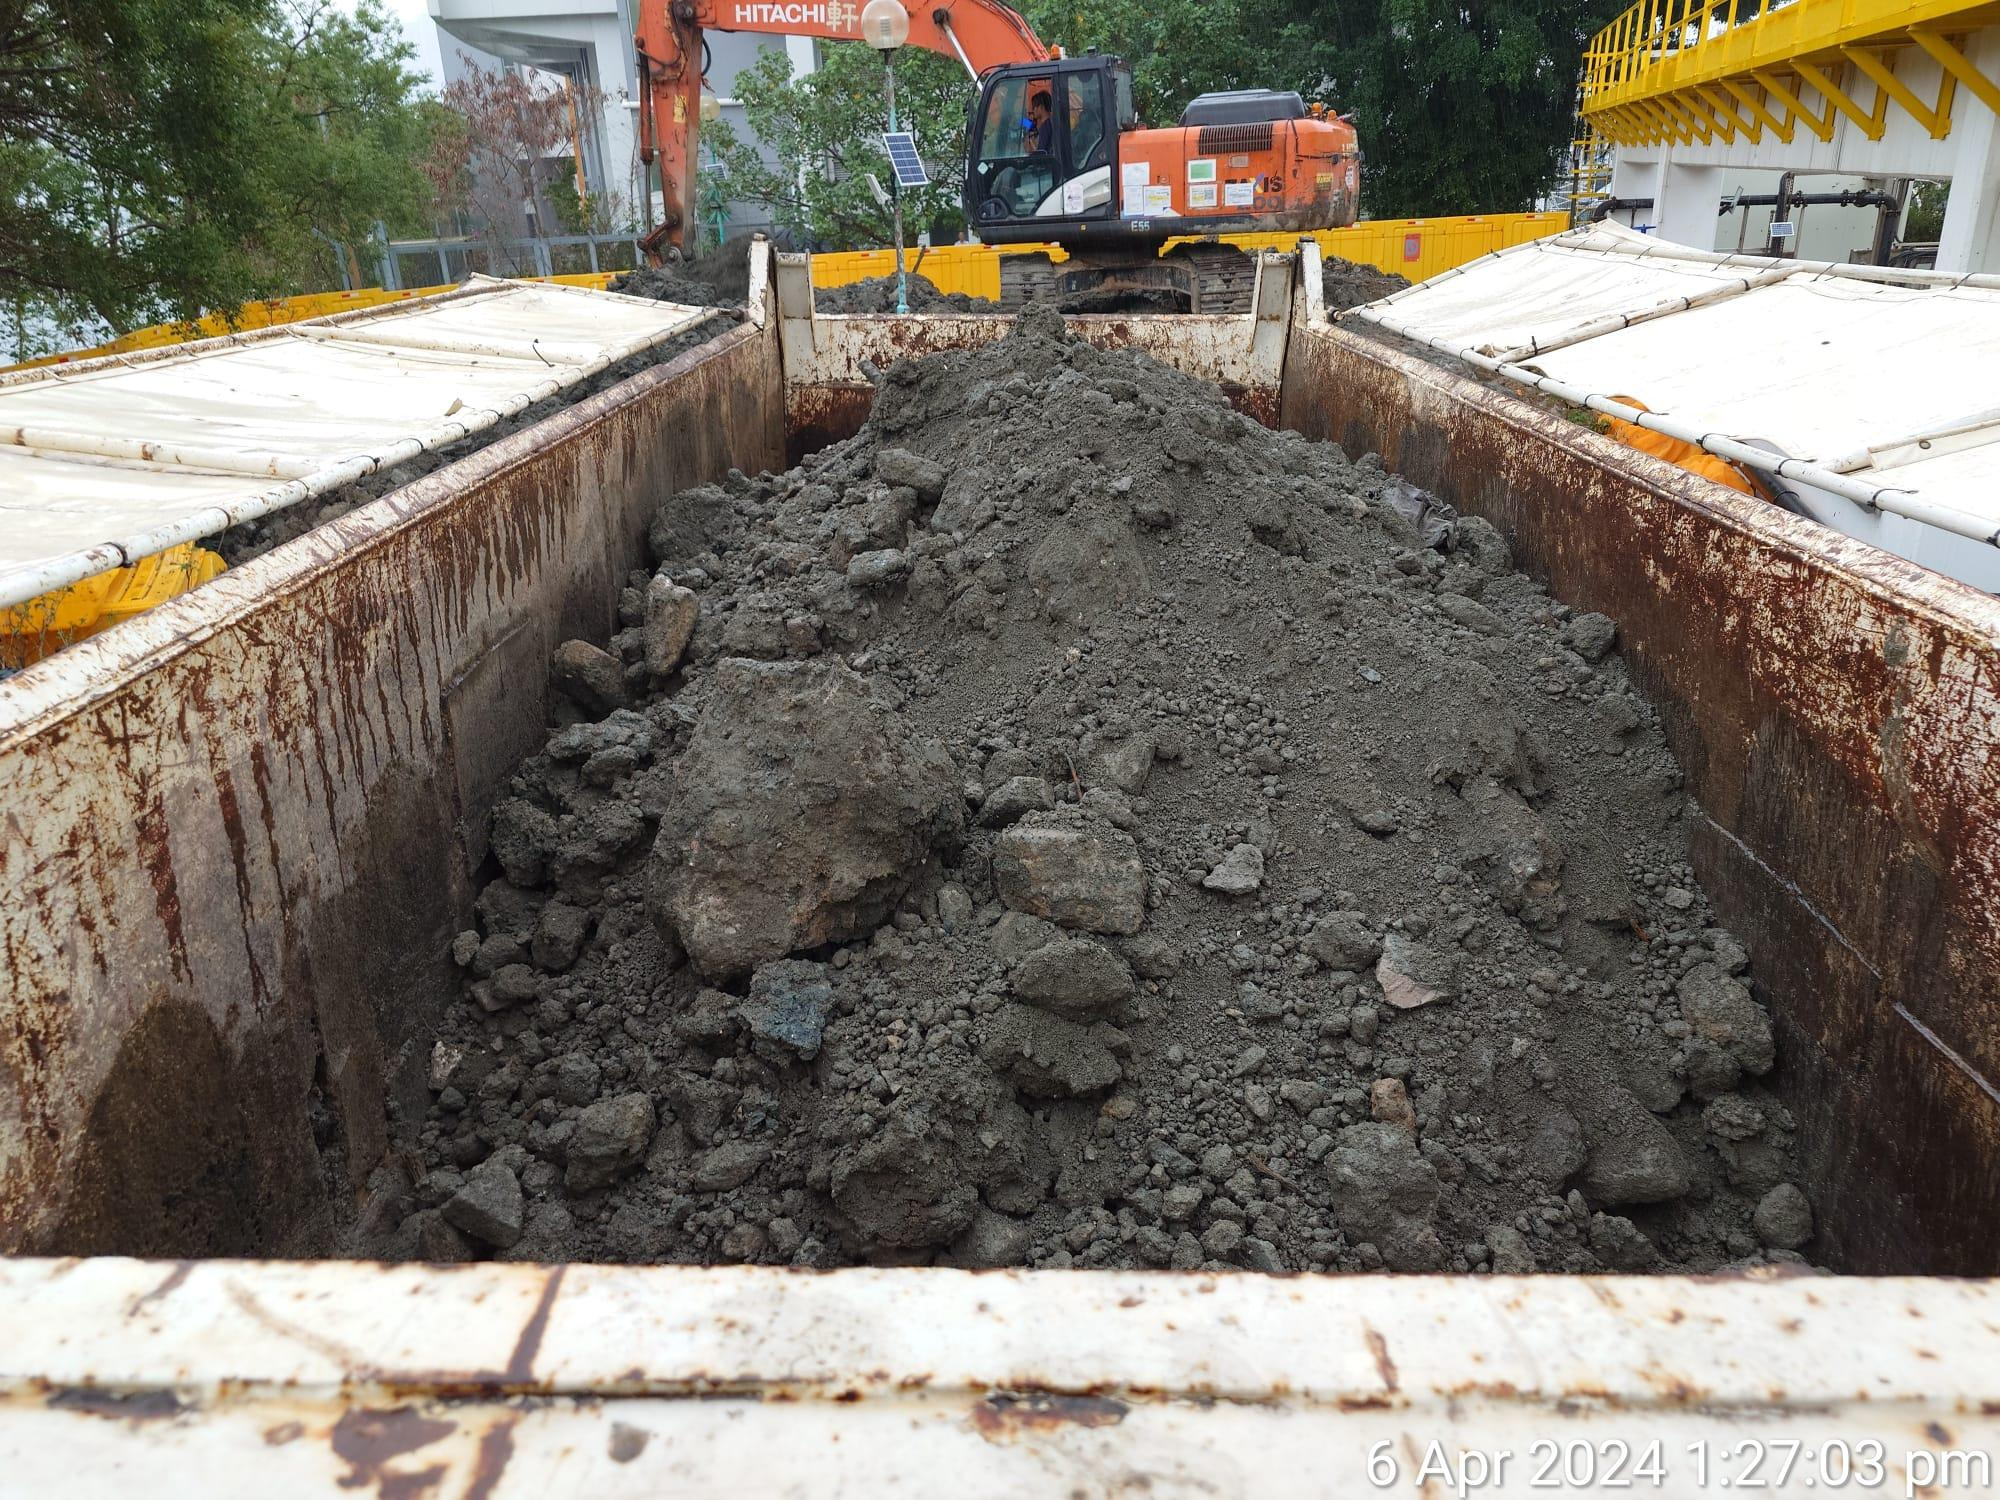dry: (405, 332, 1753, 1303)
